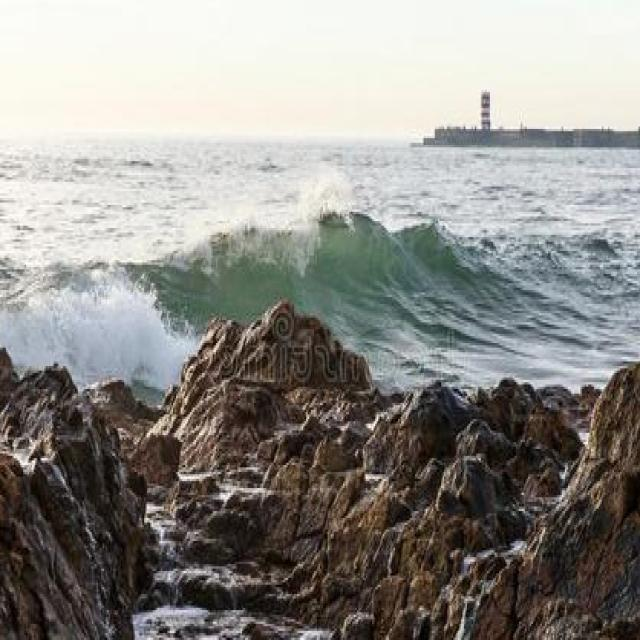reef: (94, 319, 406, 596)
